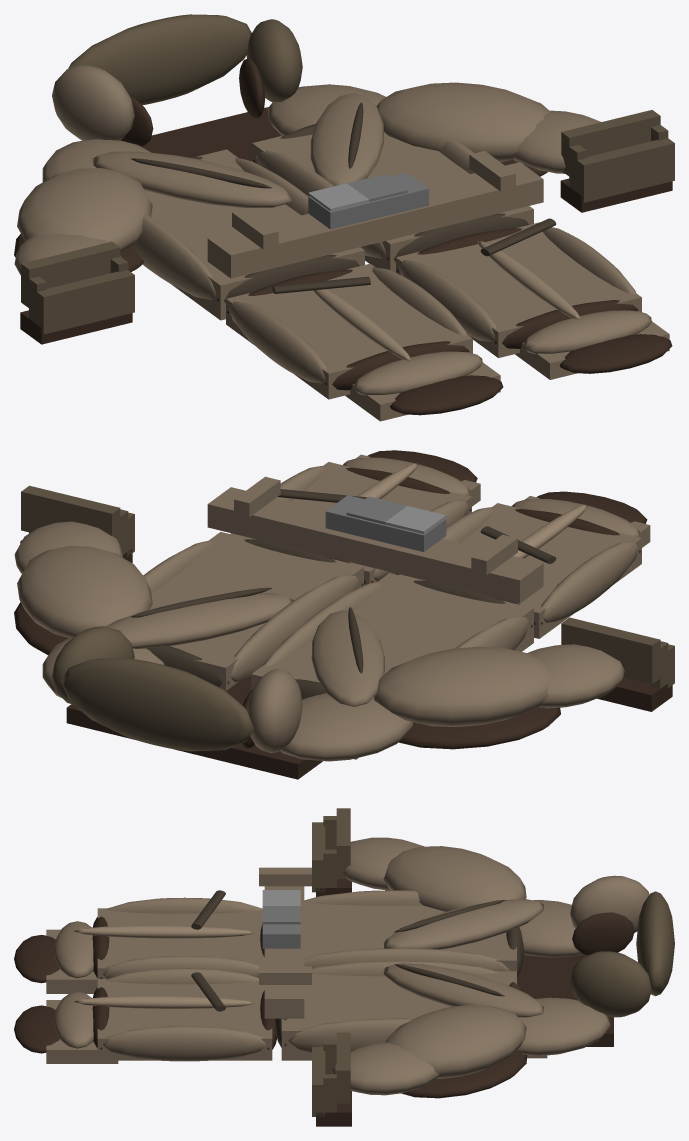
File: CMU3DCivilianTanTrenchCoatWorldCloud.glb
3 views of the same model, one above another, from view 1: azimuth 30°, elevation 25°; view 2: azimuth 150°, elevation 25°; view 3: azimuth 270°, elevation 25° (orthographic). The views are drawn at different scales.
Visible parts, largest first — view 1: waist belt, rear collar roll, left long skirt cloth face, right long skirt cloth face, right soft upper sleeve, left soft upper sleeve, left chest cloth face, left broad folded lapel, right chest cloth face, left standing collar, right broad folded lapel, left cuff outer bottom fold (+41 smaller); view 2: rear collar roll, waist belt, left soft upper sleeve, left chest cloth face, right chest cloth face, right soft upper sleeve, left connected shoulder yoke, right broad folded lapel, left long skirt cloth face, left broad folded lapel, left outward forearm fold, right chest side fold left (+36 smaller); view 3: right soft upper sleeve, right long skirt cloth face, left soft upper sleeve, right chest cloth face, left chest cloth face, left long skirt cloth face, right long skirt side fold right, left broad folded lapel, right standing collar, right broad folded lapel, right connected shoulder yoke, right outward forearm fold (+37 smaller).
Boxes of the visible parts, left/top/right/bottom form: waist belt: left=207, top=162, right=543, bottom=278; rear collar roll: left=68, top=14, right=251, bottom=105; left long skirt cloth face: left=226, top=263, right=472, bottom=399; right long skirt cloth face: left=396, top=222, right=641, bottom=357; right soft upper sleeve: left=376, top=82, right=549, bottom=161; left soft upper sleeve: left=17, top=168, right=152, bottom=252; left chest cloth face: left=144, top=149, right=364, bottom=320; left broad folded lapel: left=92, top=151, right=291, bottom=207; right chest cloth face: left=252, top=132, right=533, bottom=272; left standing collar: left=52, top=65, right=134, bottom=140; right broad folded lapel: left=310, top=93, right=383, bottom=185; left cuff outer bottom fold: left=36, top=270, right=134, bottom=334; rear collar roll: left=61, top=658, right=254, bottom=751; waist belt: left=207, top=487, right=543, bottom=603; left soft upper sleeve: left=374, top=646, right=549, bottom=727; left chest cloth face: left=251, top=573, right=533, bottom=689; right chest cloth face: left=150, top=532, right=363, bottom=690; right soft upper sleeve: left=17, top=546, right=152, bottom=637; left connected shoulder yoke: left=280, top=693, right=412, bottom=761; right broad folded lapel: left=105, top=593, right=293, bottom=648; left long skirt cloth face: left=399, top=503, right=641, bottom=638; left broad folded lapel: left=311, top=610, right=384, bottom=706; left outward forearm fold: left=527, top=644, right=624, bottom=708; right chest side fold left: left=230, top=574, right=360, bottom=682; right soft upper sleeve: left=385, top=1005, right=526, bottom=1078; right long skirt cloth face: left=97, top=979, right=272, bottom=1060; left soft upper sleeve: left=383, top=846, right=526, bottom=911; right chest cloth face: left=281, top=971, right=516, bottom=1060; left chest cloth face: left=304, top=902, right=516, bottom=971; left long skirt cloth face: left=97, top=908, right=264, bottom=978; right long skirt side fold right: left=103, top=1026, right=266, bottom=1061; left broad folded lapel: left=383, top=899, right=543, bottom=949; right standing collar: left=570, top=951, right=651, bottom=1017; right broad folded lapel: left=383, top=963, right=543, bottom=1017; right connected shoulder yoke: left=515, top=997, right=610, bottom=1055; right outward forearm fold: left=331, top=1042, right=438, bottom=1095.
Size of the model in its own units: 0.5112 by 0.084 by 0.5441.
Materials: 7 (1 with a texture image).
